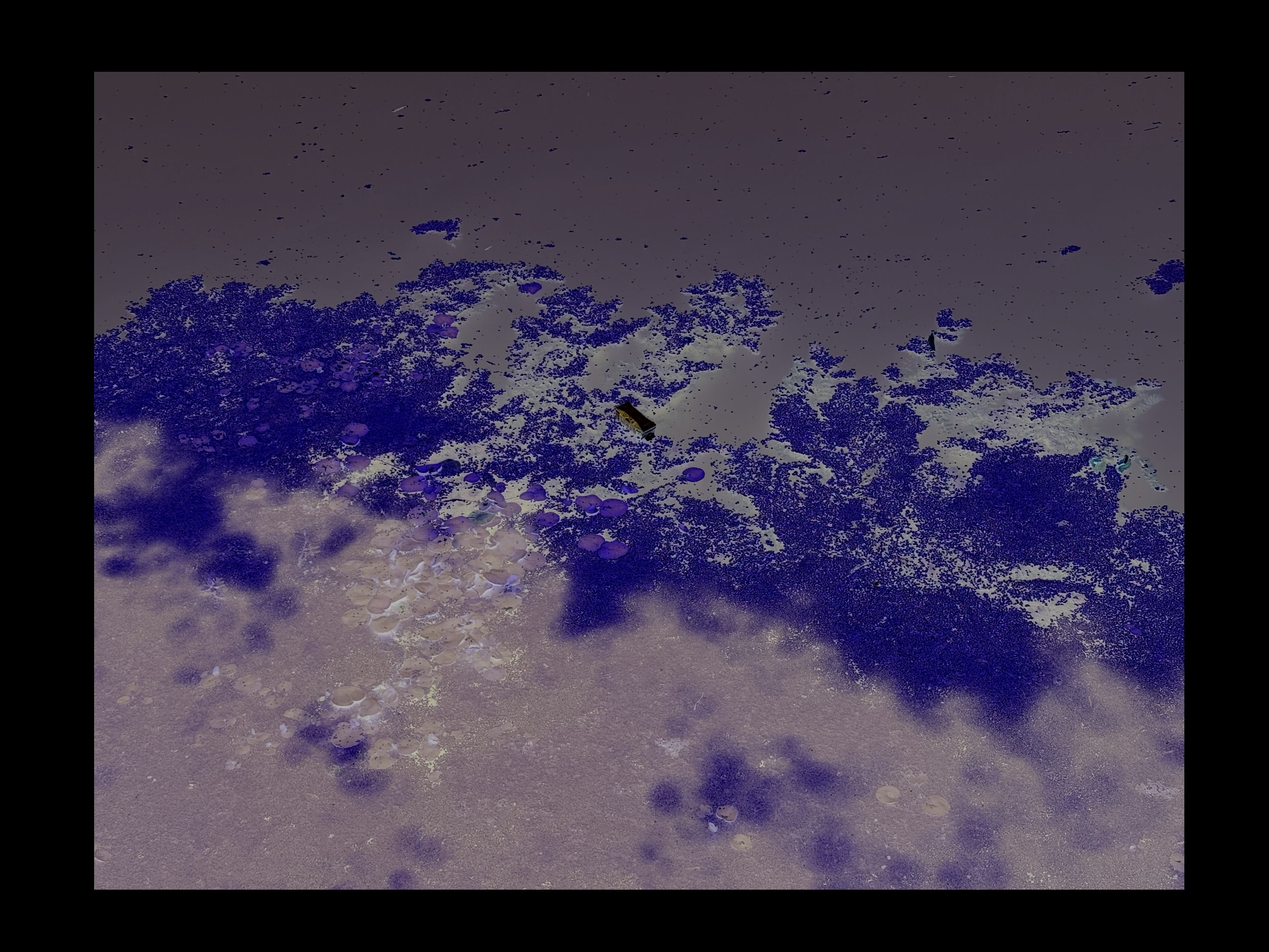Paper wastes: (606, 400, 660, 440)
